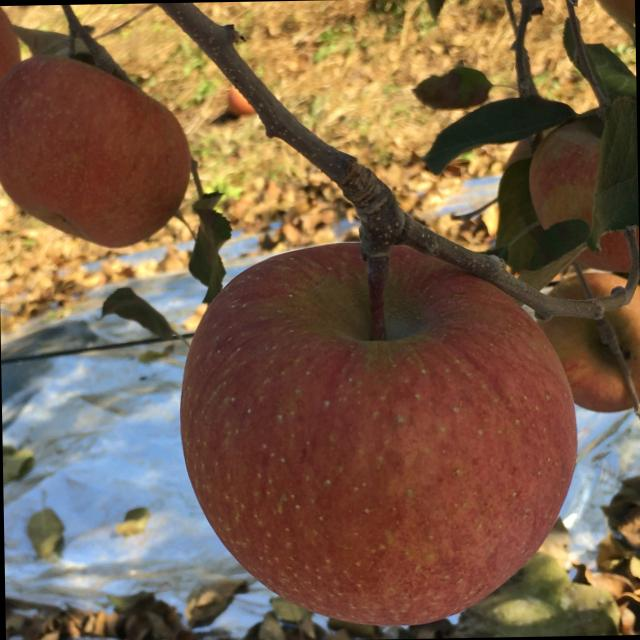fresh: (168, 225, 593, 640)
